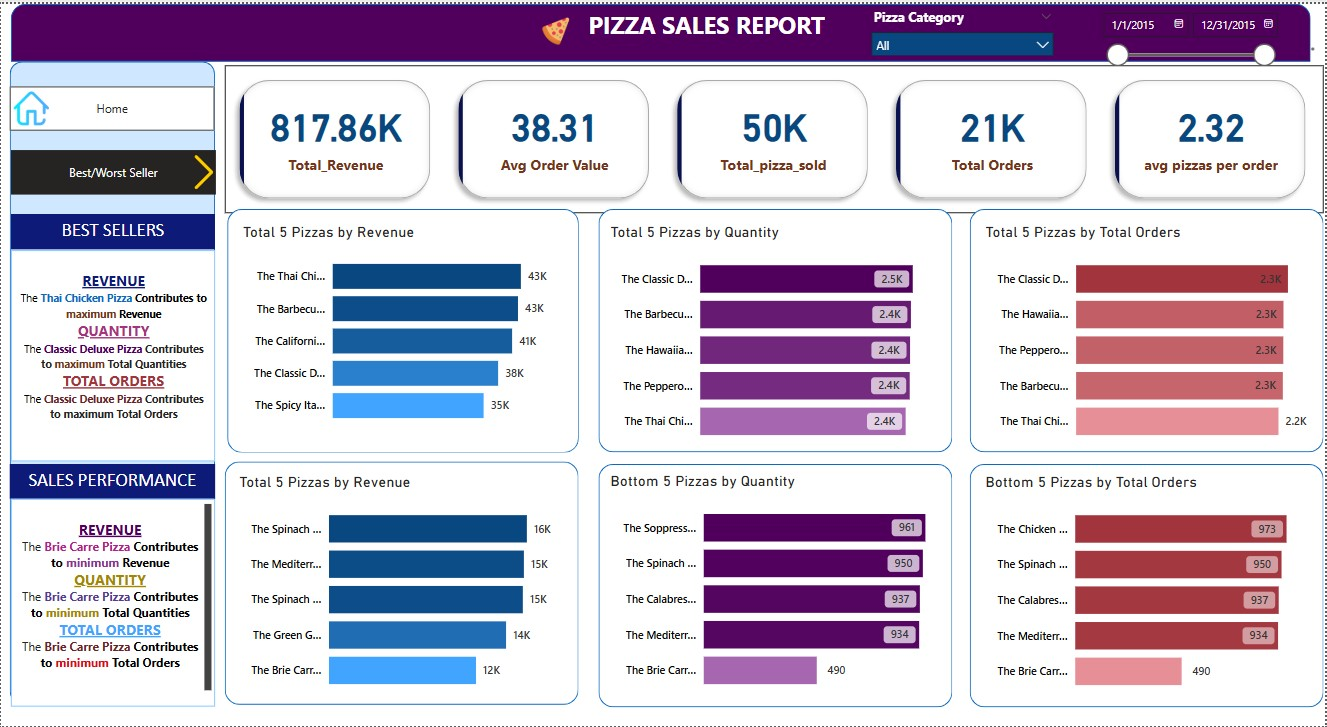

Layout of this report page (visuals, bound fields, positions):
{"tool":"powerbi","page":{"name":"Best/Worst Seller","canvas":[1500,820],"ordinal":1},"visuals":[{"type":"cardVisual","fields":{"Data":["pizza_sales.Total_Revenue","pizza_sales.Avg Order Value","pizza_sales.Total_pizza_sold","pizza_sales.Total Orders","pizza_sales.avg pizzas per order"]},"box":[253.4,69.6,1246,168.5],"z":0},{"type":"shape","box":[11.1,0,1472.9,65.4],"z":1000},{"type":"textbox","box":[629.3,0,341.1,51.5],"z":2000},{"type":"shape","box":[257.1,233,398.5,276.4],"z":3000},{"type":"shape","box":[9.7,65.4,232.5,728.1],"z":4000},{"type":"textbox","box":[11.1,238.1,231.1,40.4],"z":5000},{"type":"textbox","box":[11.1,278.4,231.1,239.5],"z":6000},{"type":"textbox","box":[9.7,520.7,232.5,39],"z":7000},{"type":"textbox","box":[11.1,561.1,231.1,235.3],"z":8000},{"type":"slicer","fields":{"Values":["pizza_sales.order_date"]},"box":[1236.3,0,215.8,76.6],"z":9000},{"type":"slicer","fields":{"Values":["pizza_sales.pizza_category"]},"box":[975.9,0,226.9,58.5],"z":10000},{"type":"shape","box":[1098.4,232.5,401,275.7],"z":11000},{"type":"shape","box":[676.6,232.5,401,275.7],"z":12000},{"type":"shape","box":[676.6,520.7,401,275.7],"z":13000},{"type":"shape","box":[1098.4,520.7,401,275.7],"z":14000},{"type":"shape","box":[253.4,517.9,401,275.7],"z":15000},{"type":"barChart","title":"Total 5 Pizzas by Revenue","fields":{"Category":["pizza_sales.pizza_name"],"Y":["pizza_sales.Total_Revenue"]},"box":[268.7,247.8,375.9,242.2],"z":16000},{"type":"barChart","title":"Total 5 Pizzas by Revenue","fields":{"Category":["pizza_sales.pizza_name"],"Y":["pizza_sales.Total_Revenue"]},"box":[265.1,531.8,376,261.9],"z":17000},{"type":"barChart","title":"Total 5 Pizzas by Quantity","fields":{"Category":["pizza_sales.pizza_name"],"Y":["pizza_sales.Total_pizza_sold"]},"box":[686.3,247.8,377.3,263.1],"z":18000},{"type":"barChart","title":"Bottom 5 Pizzas by Quantity","fields":{"Category":["pizza_sales.pizza_name"],"Y":["pizza_sales.Total_pizza_sold"]},"box":[686.1,530.2,392,263.5],"z":19000},{"type":"barChart","title":"Total 5 Pizzas by Total Orders","fields":{"Category":["pizza_sales.pizza_name"],"Y":["pizza_sales.Total Orders"]},"box":[1111,247.8,378.7,263.1],"z":20000},{"type":"barChart","title":"Bottom 5 Pizzas by Total Orders","fields":{"Category":["pizza_sales.pizza_name"],"Y":["pizza_sales.Total_pizza_sold"]},"box":[1111,531.8,377.3,263.1],"z":21000},{"type":"pageNavigator","box":[11.1,165.7,232.5,50.1],"z":22000},{"type":"pageNavigator","box":[9.7,93.3,232.5,50.1],"z":23000},{"type":"image","box":[0,93.3,68.2,50.1],"z":24000},{"type":"image","box":[200.5,165.7,57.1,50.1],"z":25000},{"type":"image","box":[607,9.7,44.6,41.8],"z":26000}]}

Visuals, with their boxes in screenshot pixels (x1, y1, x2, y2), scaled from the page's 1500x820 canvas onto the 1327x727 screenshot:
cardVisual - pizza_sales.Total_Revenue x pizza_sales.Avg Order Value: locate(224, 62, 1326, 211)
shape: locate(10, 0, 1313, 58)
textbox: locate(557, 0, 858, 46)
shape: locate(227, 207, 580, 452)
shape: locate(9, 58, 214, 704)
textbox: locate(10, 211, 214, 247)
textbox: locate(10, 247, 214, 459)
textbox: locate(9, 462, 214, 496)
textbox: locate(10, 497, 214, 706)
slicer - pizza_sales.order_date: locate(1094, 0, 1285, 68)
slicer - pizza_sales.pizza_category: locate(863, 0, 1064, 52)
shape: locate(972, 206, 1326, 451)
shape: locate(599, 206, 953, 451)
shape: locate(599, 462, 953, 706)
shape: locate(972, 462, 1326, 706)
shape: locate(224, 459, 579, 704)
"Total 5 Pizzas by Revenue" barChart: locate(238, 220, 570, 434)
"Total 5 Pizzas by Revenue" barChart: locate(235, 471, 567, 704)
"Total 5 Pizzas by Quantity" barChart: locate(607, 220, 941, 453)
"Bottom 5 Pizzas by Quantity" barChart: locate(607, 470, 954, 704)
"Total 5 Pizzas by Total Orders" barChart: locate(983, 220, 1318, 453)
"Bottom 5 Pizzas by Total Orders" barChart: locate(983, 471, 1317, 705)
pageNavigator: locate(10, 147, 216, 191)
pageNavigator: locate(9, 83, 214, 127)
image: locate(0, 83, 60, 127)
image: locate(177, 147, 228, 191)
image: locate(537, 9, 576, 46)
